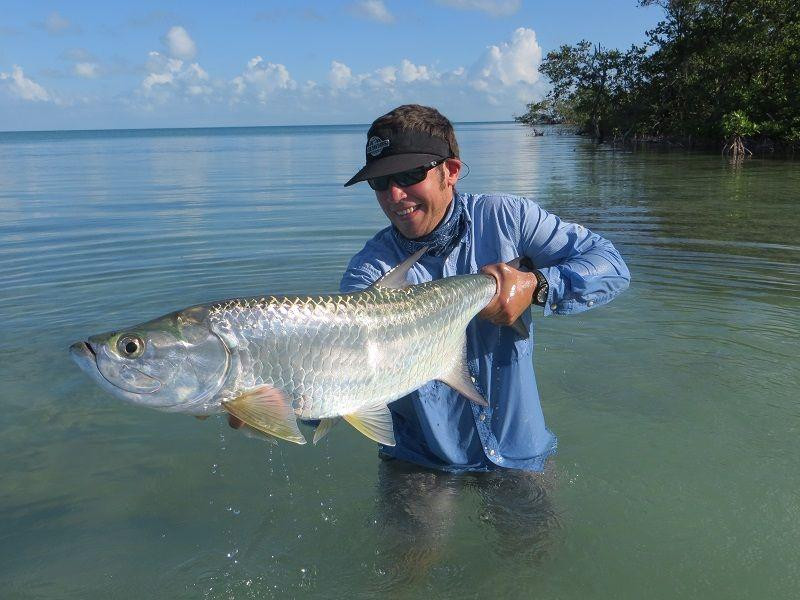Indo-Pacific Tarpon: (76, 262, 540, 450)
